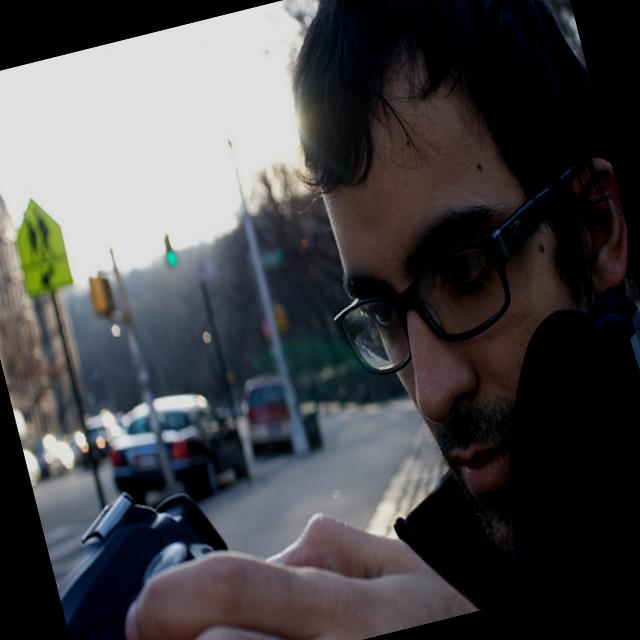Vehicle: (97, 380, 250, 518), (233, 370, 298, 459), (70, 407, 132, 472), (21, 440, 47, 490)
